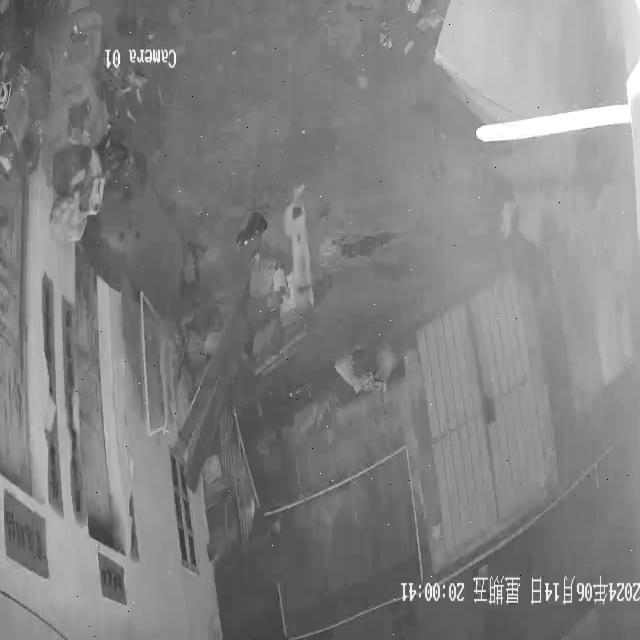dog: (285, 180, 319, 315)
